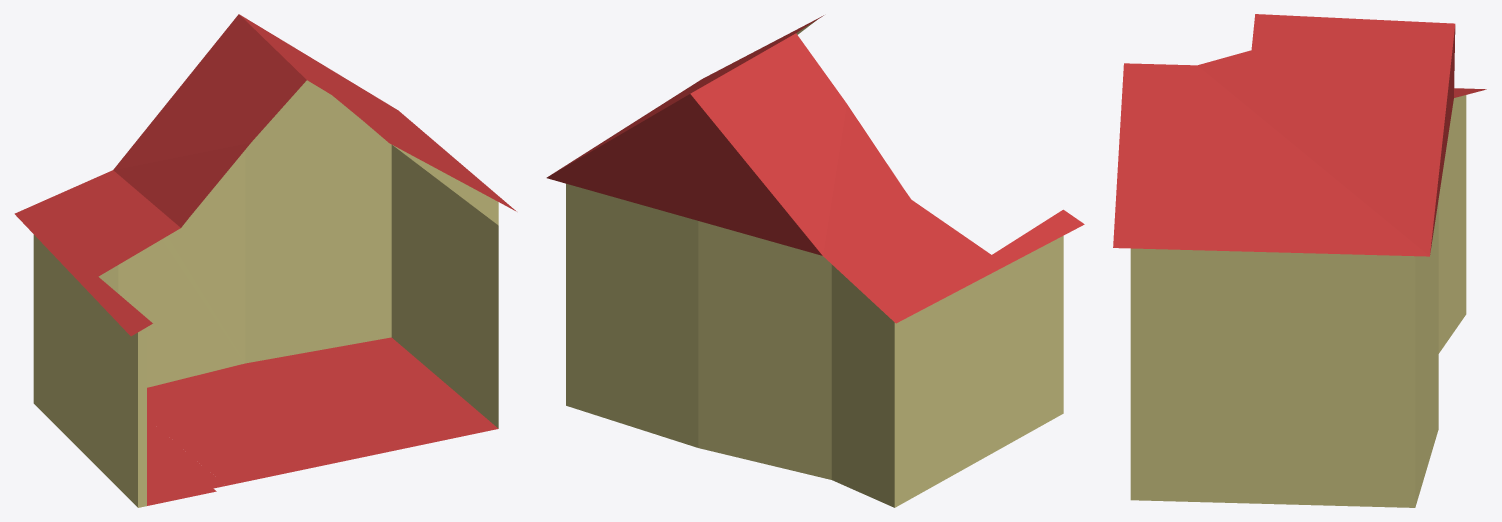
3 views of the same model, side by side, from view 1: azimuth 30°, elevation 25°; view 2: azimuth 150°, elevation 25°; view 3: azimuth 270°, elevation 25° (orthographic). The views are drawn at different scales.
Bounding box in the file's own units: 15.98 × 11.22 × 13.42.
